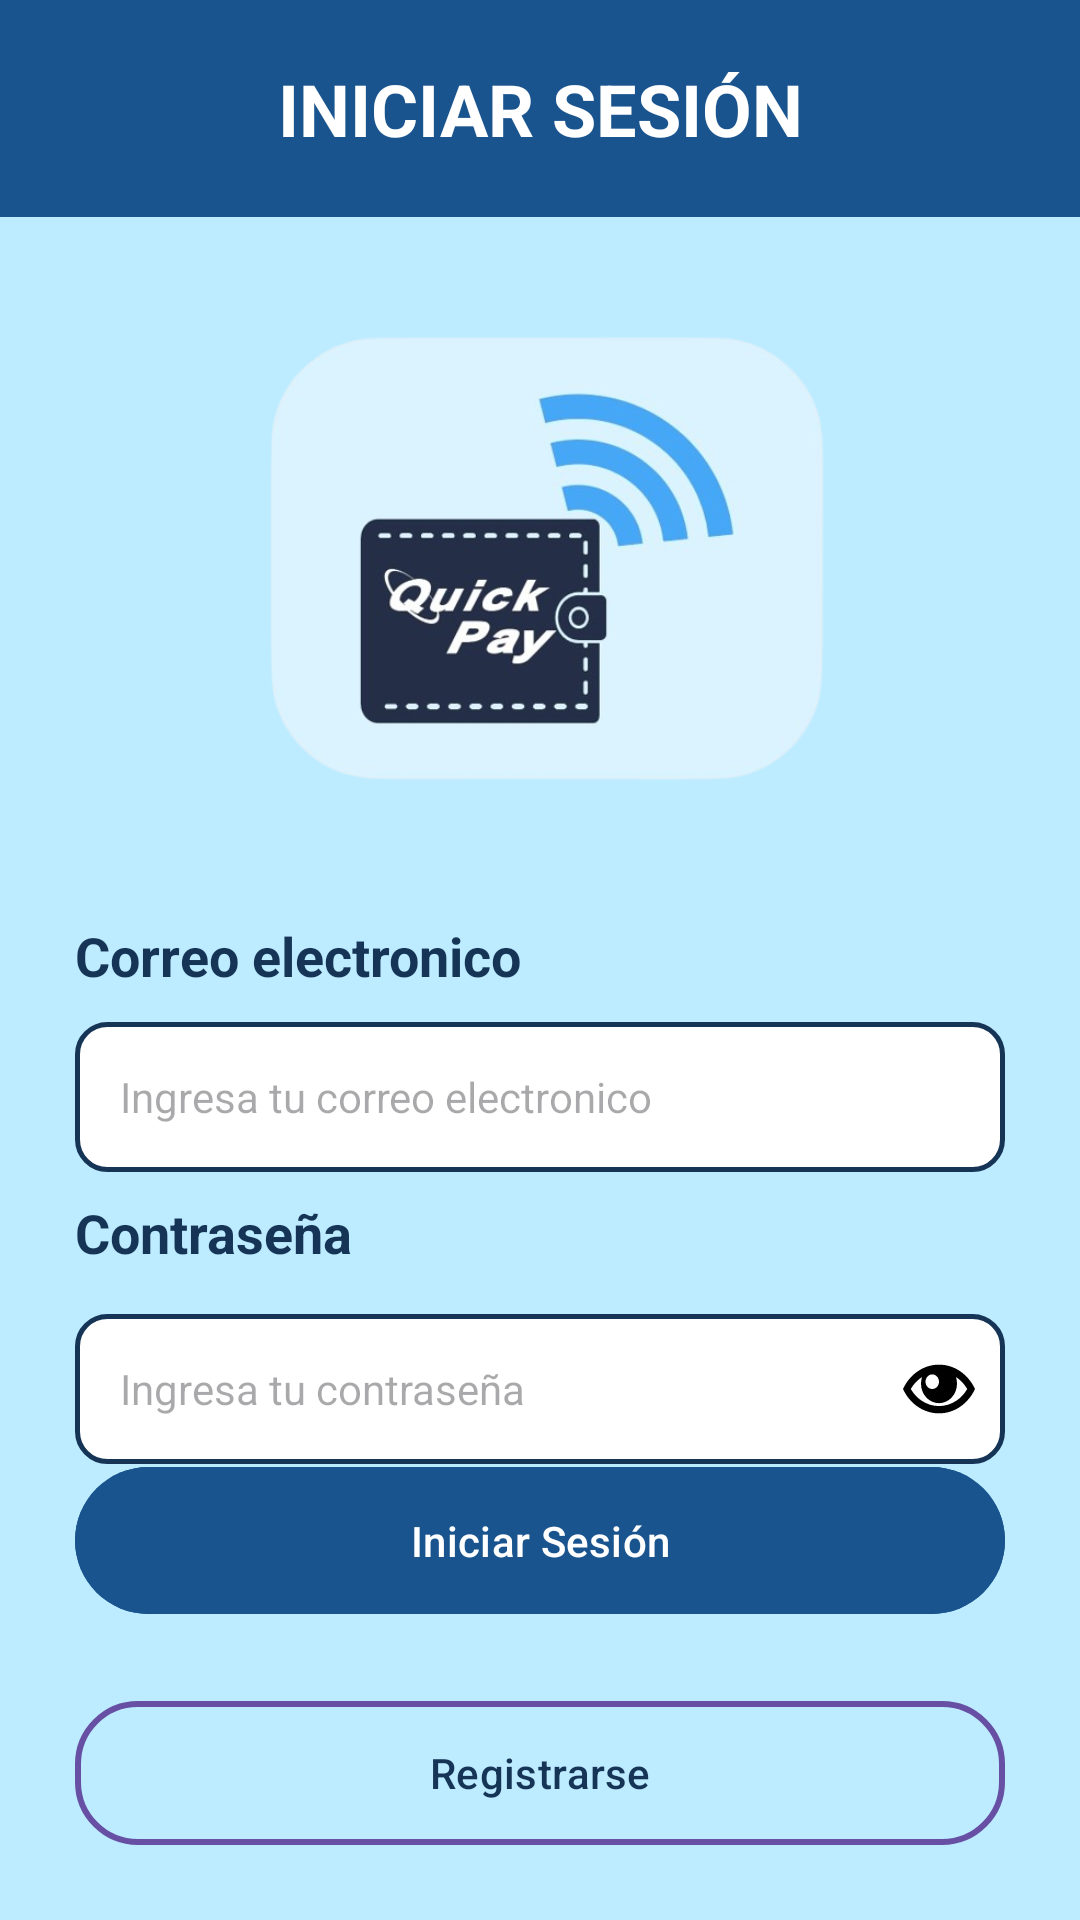

Screen size 1080*1920. Icon name, then its box in pixels as (x1, y1, x2, y2):
Mostrar/Ocultar contraseña: (903, 1364, 975, 1414)
